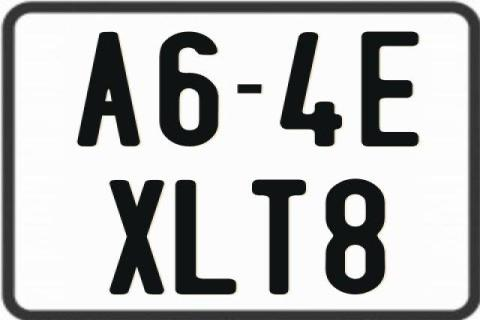0: (278, 29, 345, 145), (324, 179, 385, 297), (156, 32, 219, 146)
A: (77, 32, 145, 150)
E: (360, 31, 423, 147)
L: (173, 178, 240, 294)
T: (250, 180, 305, 298)
X: (109, 177, 167, 293)
